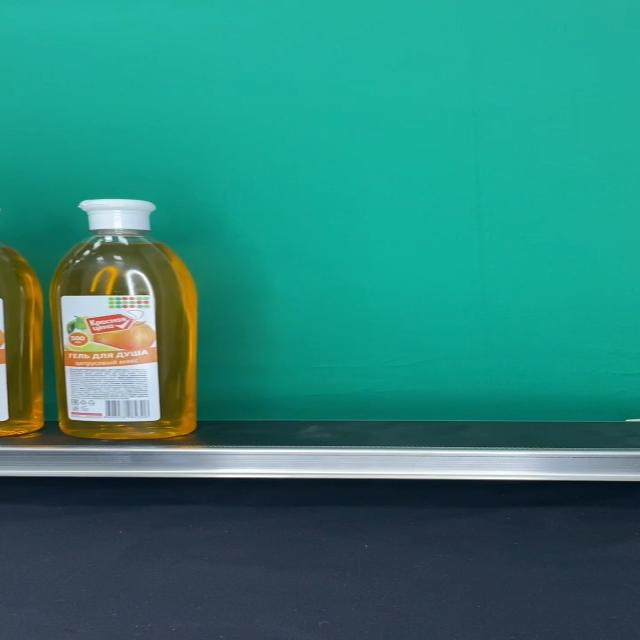Bottle: (49, 199, 198, 439)
Cap: (77, 200, 155, 232)
